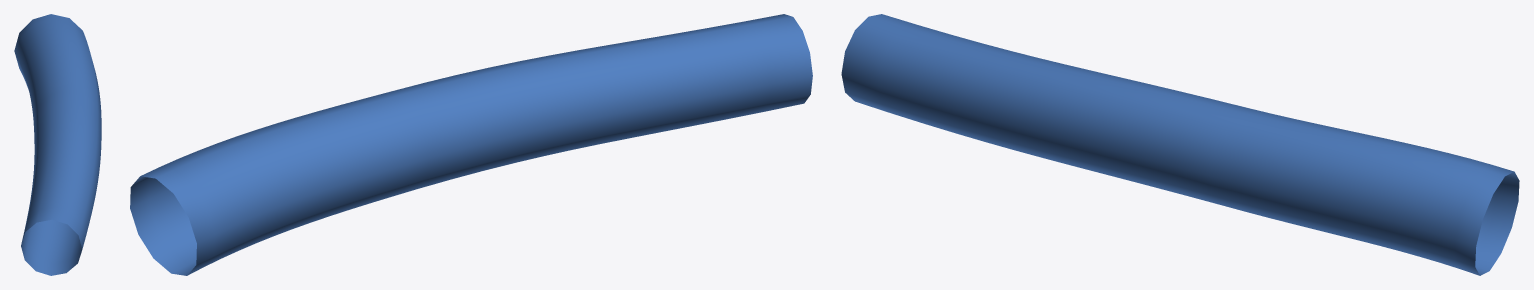
The picture shows the model from 3 angles, left to right: view 1: azimuth 30°, elevation 25°; view 2: azimuth 150°, elevation 25°; view 3: azimuth 270°, elevation 25°; orthographic projection. The views are drawn at different scales.
Parts seen in each view (by area): view 1: 右侧下颌后静脉; view 2: 右侧下颌后静脉; view 3: 右侧下颌后静脉.
Part boxes in pixels (x1=…): 右侧下颌后静脉: x1=14, y1=14, x2=101, y2=275; 右侧下颌后静脉: x1=130, y1=14, x2=812, y2=275; 右侧下颌后静脉: x1=841, y1=14, x2=1519, y2=275.
Bounding box in the file's own units: 0.0145 × 0.00391 × 0.0218.
